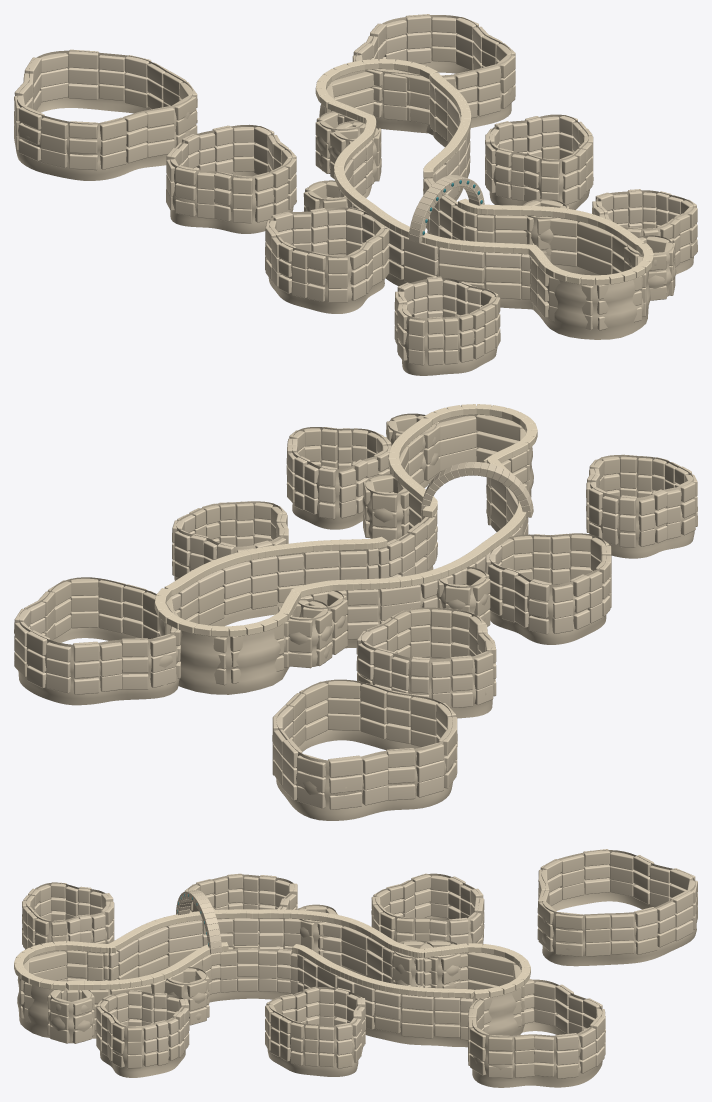
Rendered from oasis-course-2.glb.
3 renders of one model, top to bottom at view 1: azimuth 30°, elevation 25°; view 2: azimuth 150°, elevation 25°; view 3: azimuth 270°, elevation 25°, orthographic. The views are drawn at different scales.
Parts seen in each view (by area): view 1: Oasis artisan masonry; view 2: Oasis artisan masonry; view 3: Oasis artisan masonry.
Part boxes in pixels (<box>): Oasis artisan masonry: <box>14,14,697,375</box>; Oasis artisan masonry: <box>14,404,697,820</box>; Oasis artisan masonry: <box>14,849,697,1087</box>.
Size of the model in its own units: 17.73 by 4.07 by 27.04.
